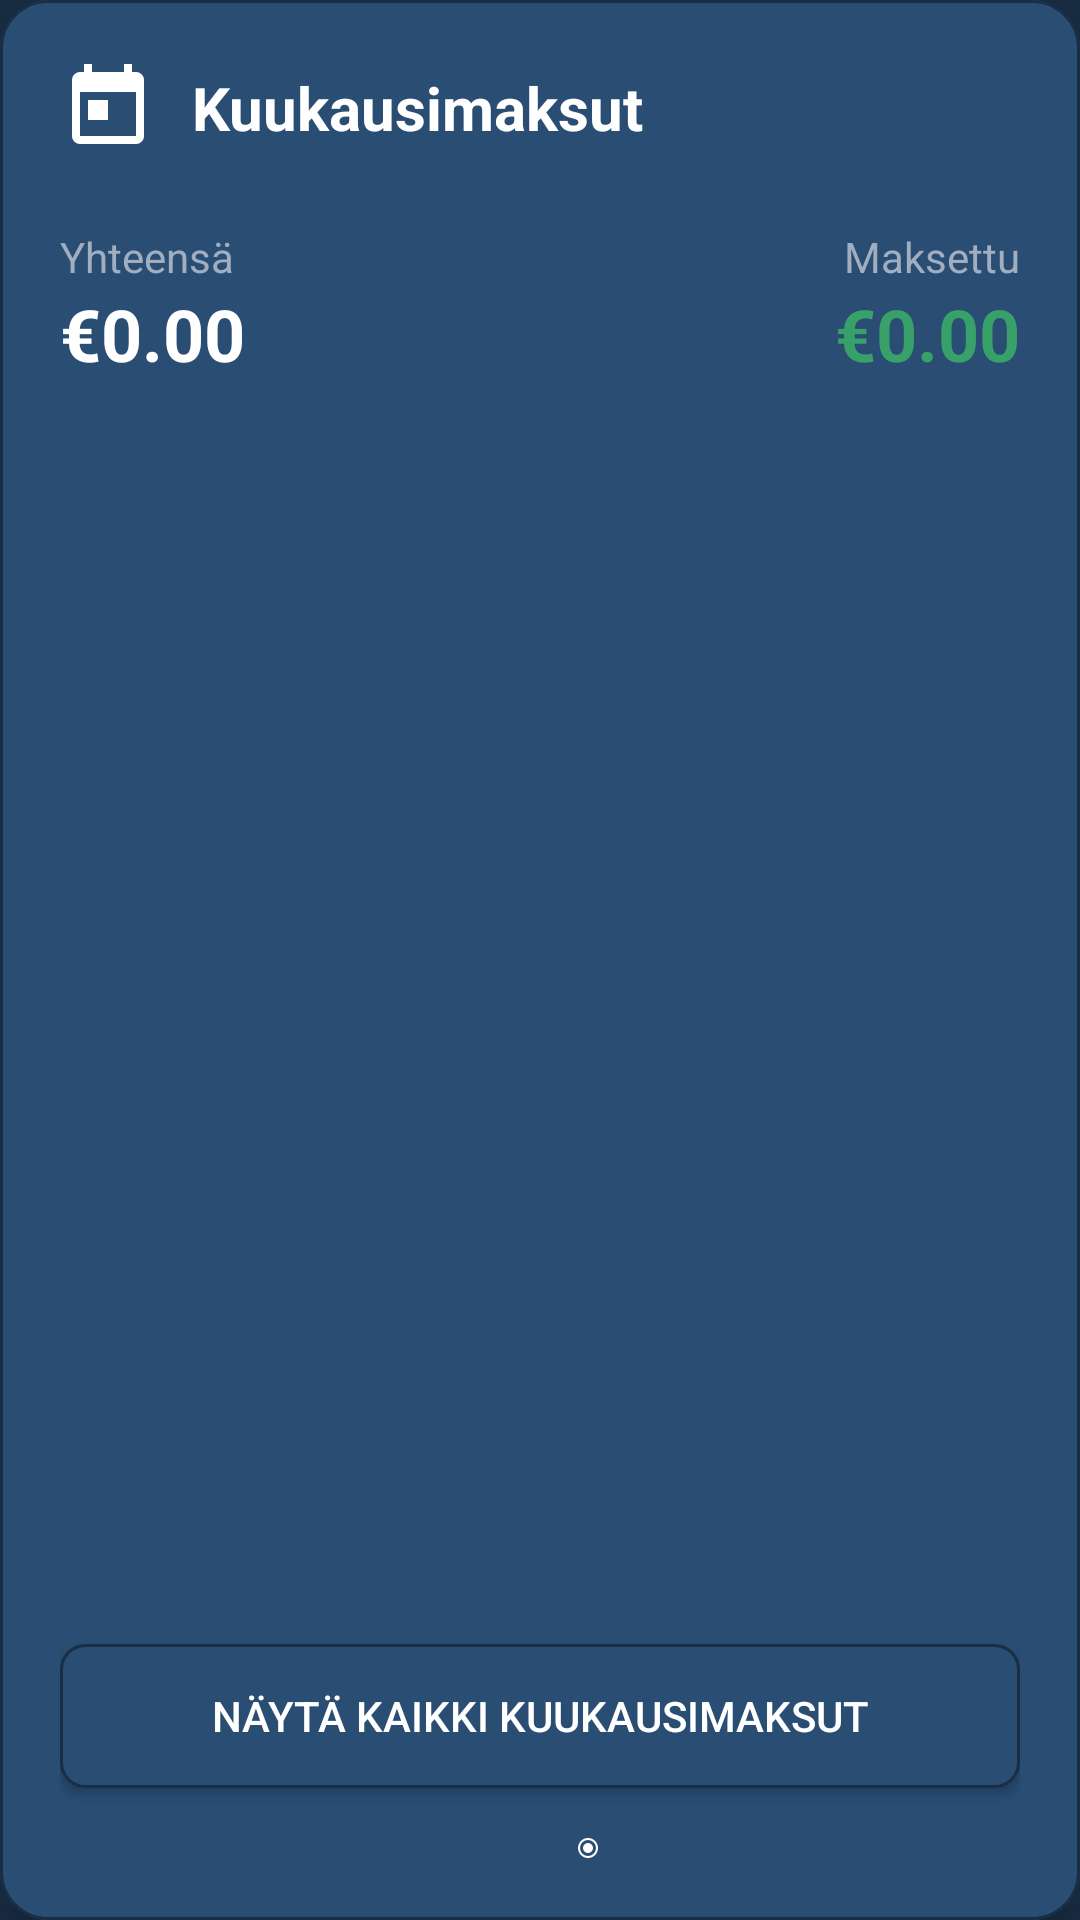

Point at icon controls on the screen. Image size 1080 × 1920, points as point (x, y).
calendar modern: point (108, 104)
